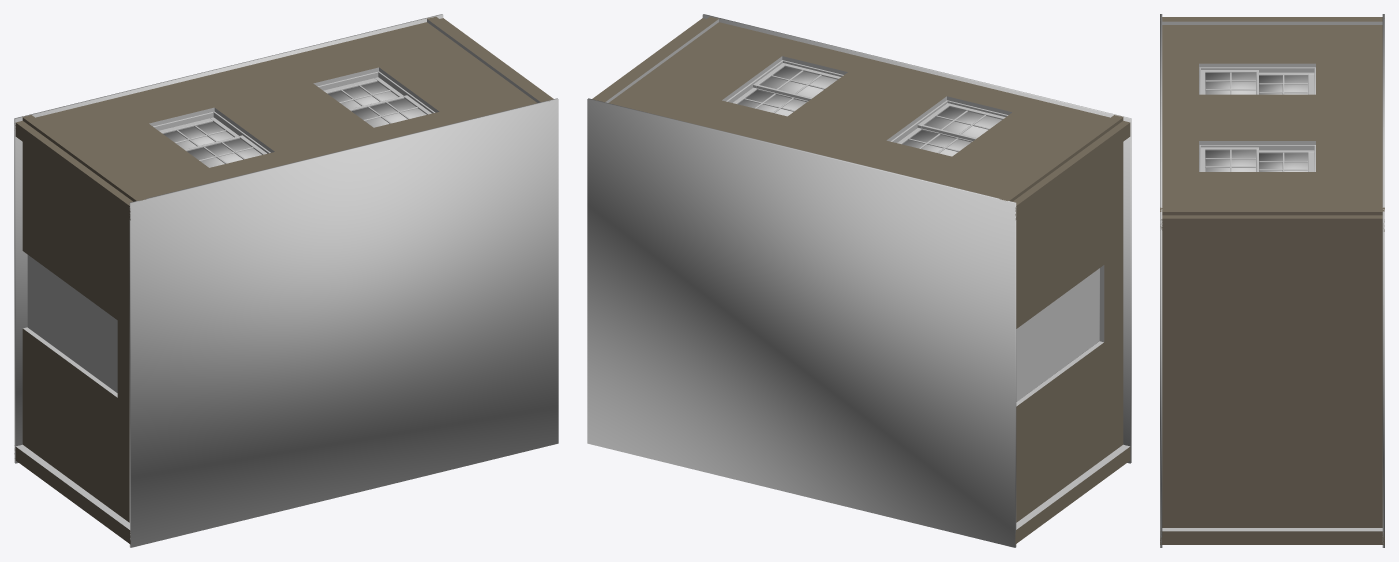
The model's file is Pompeian_Bedroom_3D.obj.
3 views of the same model, side by side, from view 1: azimuth 30°, elevation 25°; view 2: azimuth 150°, elevation 25°; view 3: azimuth 270°, elevation 25° (orthographic). The views are drawn at different scales.
Visible parts, largest first — view 1: ceiling, wall_south_outer, wall_east_outer, d1_leaf, floor_parquet, w1_glass, w2_glass, w2_sashes, w1_sashes, wall_north_outer, wall_south_reveals, wall_west_outer; view 2: floor_parquet, wall_south_outer, wall_east_outer, d1_leaf, ceiling, w2_glass, w1_glass, w1_sashes, w2_sashes, wall_north_outer, wall_south_reveals, wall_west_outer (+1 smaller); view 3: wall_west_outer, wall_south_outer, wall_north_outer, w2_glass, w1_glass, w2_sashes, w1_sashes, ceiling, floor_parquet, wall_east_outer, wall_south_reveals, wall_east_upper (+1 smaller).
Part boxes in pixels (box(x1,y1,x2,y2)): ceiling: box(129, 98, 558, 547); wall_south_outer: box(14, 18, 553, 220); wall_east_outer: box(22, 115, 146, 522); d1_leaf: box(27, 255, 117, 392); floor_parquet: box(14, 14, 443, 463); w1_glass: box(328, 81, 426, 127); w2_glass: box(163, 122, 261, 167); w2_sashes: box(153, 111, 270, 163); w1_sashes: box(317, 71, 435, 123); wall_north_outer: box(14, 447, 130, 544); wall_south_reveals: box(149, 67, 439, 152); wall_west_outer: box(426, 16, 550, 102); floor_parquet: box(587, 98, 1016, 547); wall_south_outer: box(592, 18, 1130, 219); wall_east_outer: box(1000, 115, 1123, 522); d1_leaf: box(1016, 268, 1099, 401); ceiling: box(702, 14, 1131, 463); w2_glass: box(902, 107, 1001, 156); w1_glass: box(738, 67, 837, 116); w1_sashes: box(726, 60, 843, 113); w2_sashes: box(890, 100, 1008, 153); wall_north_outer: box(1015, 447, 1130, 544); wall_south_reveals: box(722, 56, 1011, 141); wall_west_outer: box(595, 16, 718, 102); wall_west_outer: box(1160, 207, 1384, 527); wall_south_outer: box(1160, 17, 1384, 231); wall_north_outer: box(1160, 531, 1384, 544); w2_glass: box(1205, 73, 1307, 94); w1_glass: box(1205, 150, 1307, 171); w2_sashes: box(1199, 67, 1315, 94); w1_sashes: box(1199, 145, 1315, 171); ceiling: box(1160, 14, 1162, 547); floor_parquet: box(1382, 14, 1384, 547); wall_east_outer: box(1160, 17, 1384, 21); wall_south_reveals: box(1199, 63, 1315, 144); wall_east_upper: box(1162, 21, 1313, 24).
Bounding box in the file's own units: 208 × 160 × 98.
